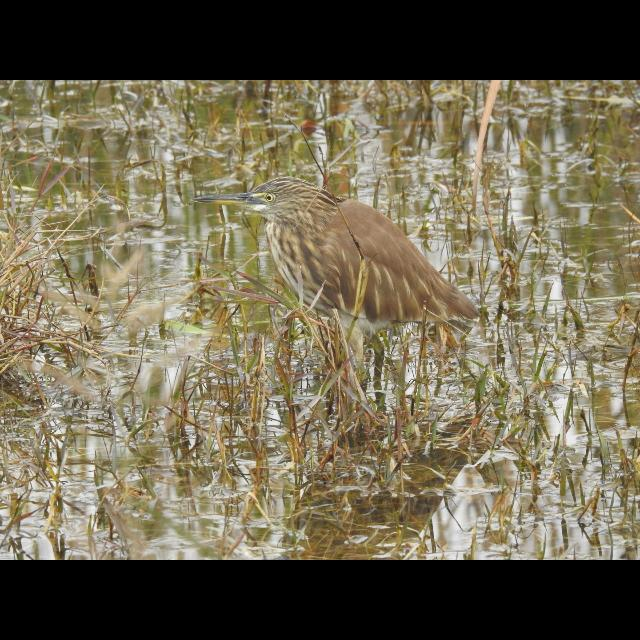heron: (188, 172, 476, 356)
